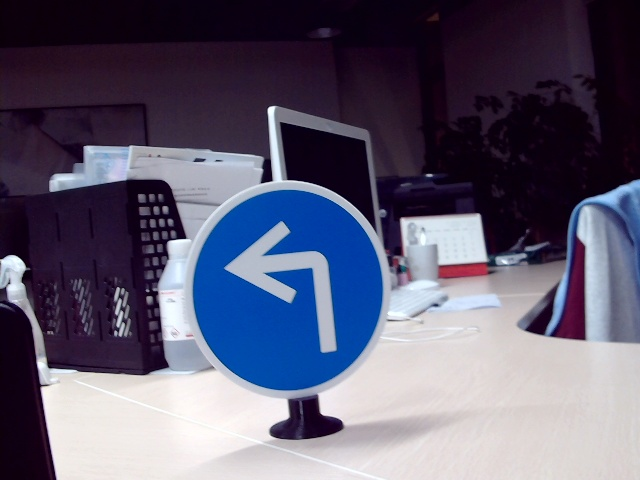turn_left: (225, 222, 340, 351)
